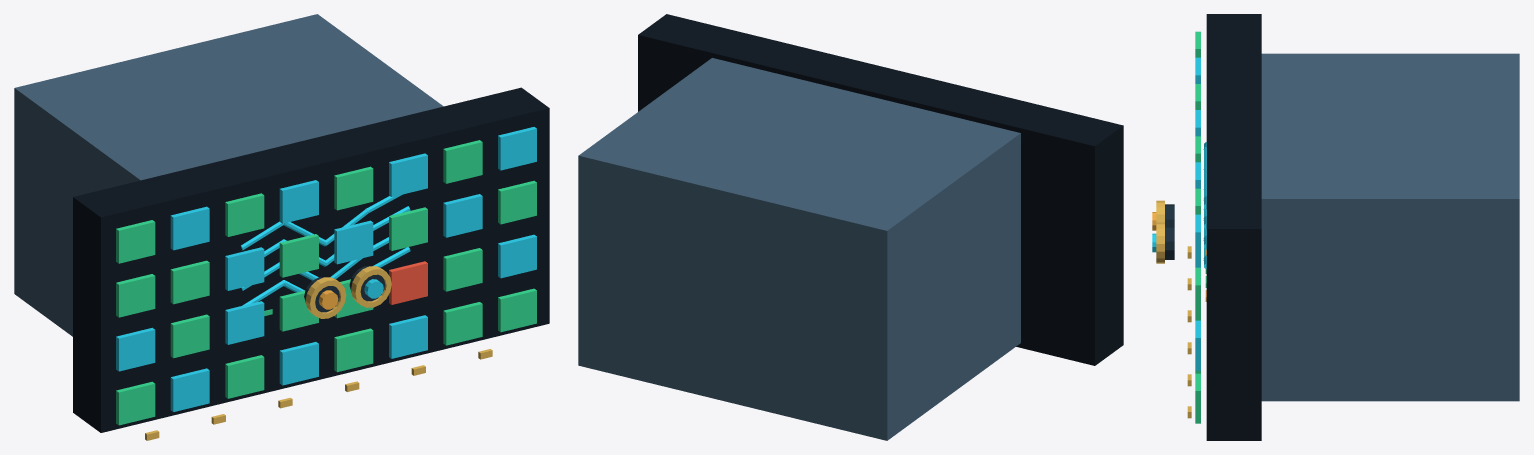
The model's file is 17_L81_MemoryAddressDecoder.fbx.
The picture shows the model from 3 angles, left to right: view 1: azimuth 30°, elevation 25°; view 2: azimuth 150°, elevation 25°; view 3: azimuth 270°, elevation 25°; orthographic projection. The views are drawn at different scales.
Visible parts, largest first — view 1: MemoryAddressDecoder_Part_0051, MemoryAddressDecoder, MemoryAddressDecoder_Part_0058, MemoryAddressDecoder_Part_0062, MemoryAddressDecoder_Part_0052, MemoryAddressDecoder_Part_0056, MemoryAddressDecoder_Part_0069, MemoryAddressDecoder_Part_0076, MemoryAddressDecoder_Part_0079, MemoryAddressDecoder_Part_0082, MemoryAddressDecoder_Part_0055, MemoryAddressDecoder_Part_0060 (+21 smaller); view 2: MemoryAddressDecoder, MemoryAddressDecoder_Part_0051; view 3: MemoryAddressDecoder, MemoryAddressDecoder_Part_0051.
Part boxes in pixels (x1=…): MemoryAddressDecoder_Part_0051: x1=73, y1=87, x2=549, y2=432; MemoryAddressDecoder: x1=14, y1=14, x2=443, y2=336; MemoryAddressDecoder_Part_0058: x1=443, y1=302, x2=482, y2=345; MemoryAddressDecoder_Part_0062: x1=225, y1=301, x2=264, y2=344; MemoryAddressDecoder_Part_0052: x1=116, y1=381, x2=155, y2=425; MemoryAddressDecoder_Part_0056: x1=334, y1=328, x2=373, y2=372; MemoryAddressDecoder_Part_0069: x1=170, y1=260, x2=209, y2=304; MemoryAddressDecoder_Part_0076: x1=116, y1=220, x2=155, y2=263; MemoryAddressDecoder_Part_0079: x1=279, y1=180, x2=318, y2=223; MemoryAddressDecoder_Part_0082: x1=443, y1=140, x2=482, y2=183; MemoryAddressDecoder_Part_0055: x1=279, y1=342, x2=318, y2=385; MemoryAddressDecoder_Part_0060: x1=116, y1=327, x2=155, y2=371; MemoryAddressDecoder: x1=578, y1=58, x2=1020, y2=440; MemoryAddressDecoder_Part_0051: x1=638, y1=14, x2=1123, y2=365; MemoryAddressDecoder: x1=1152, y1=53, x2=1519, y2=401; MemoryAddressDecoder_Part_0051: x1=1206, y1=14, x2=1261, y2=440.
Bounding box in the file's own units: 148 × 71 × 107.
